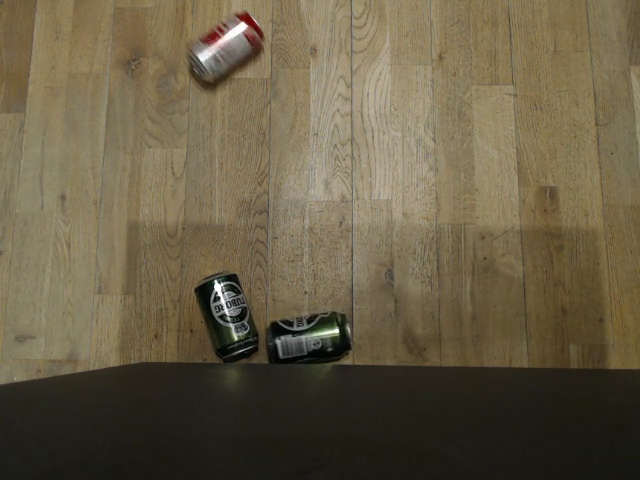beer: (191, 269, 256, 367), (267, 308, 351, 364)
cola: (184, 12, 263, 84)
